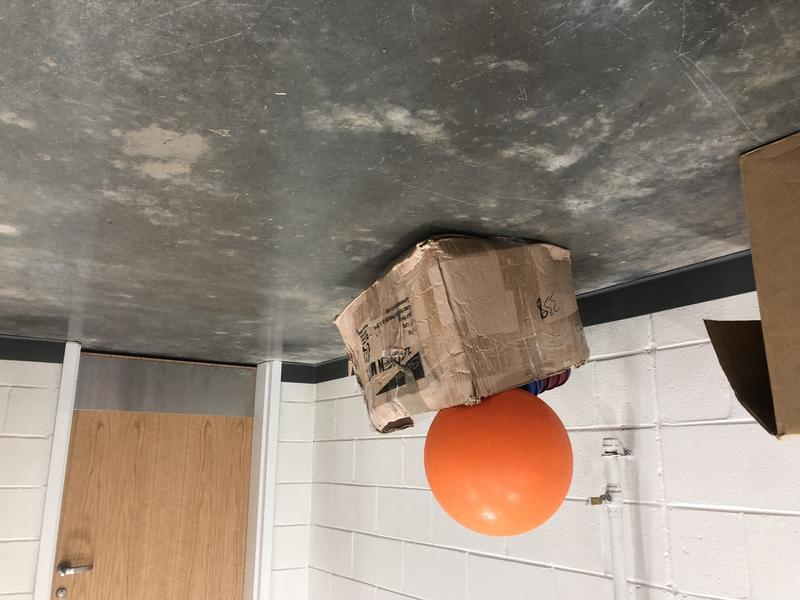ball: (425, 385, 572, 536)
